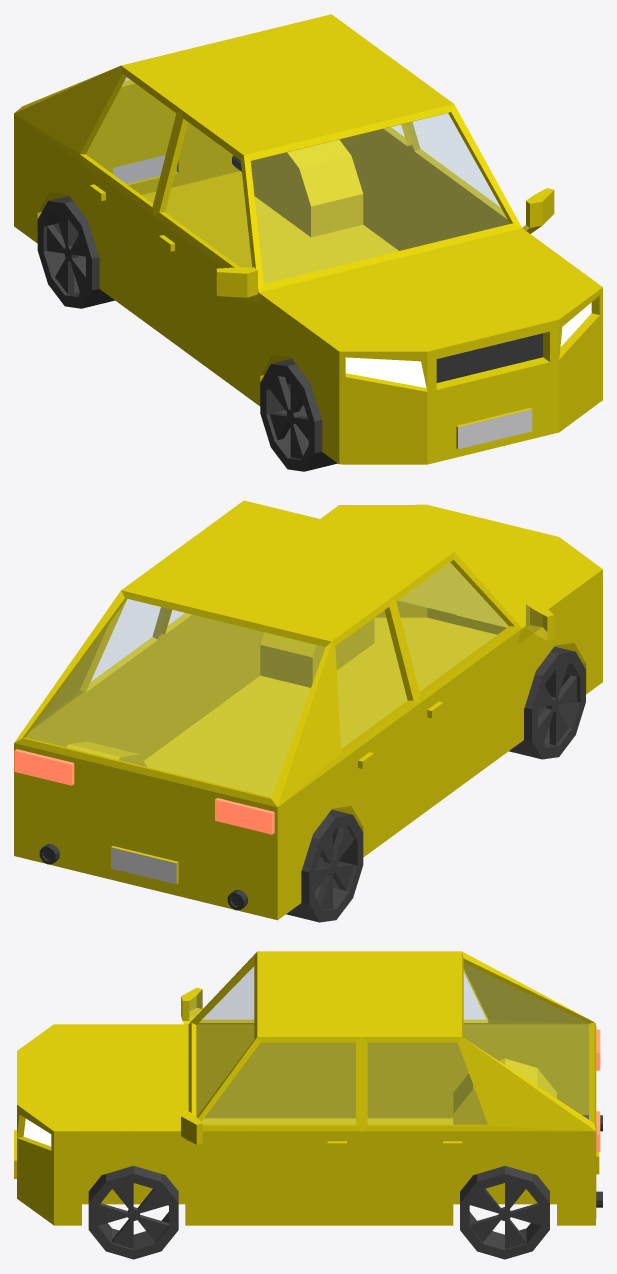
File: hatchback.glb
The picture shows the model from 3 angles, top to bottom: view 1: azimuth 30°, elevation 25°; view 2: azimuth 150°, elevation 25°; view 3: azimuth 270°, elevation 25°; orthographic projection. The views are drawn at different scales.
Parts seen in each view (by area): view 1: Hatchback, Hatchback wheel front right, Hatchback wheel rear right; view 2: Hatchback, Hatchback wheel rear right, Hatchback wheel front right; view 3: Hatchback, Hatchback wheel front left, Hatchback wheel rear left.
Boxes of the visible parts, box(x1,y1,x2,y2) form: Hatchback: box(14, 14, 602, 464); Hatchback wheel front right: box(260, 359, 337, 471); Hatchback wheel rear right: box(37, 196, 114, 308); Hatchback: box(14, 500, 602, 920); Hatchback wheel rear right: box(286, 809, 363, 922); Hatchback wheel front right: box(509, 646, 585, 759); Hatchback: box(14, 951, 602, 1225); Hatchback wheel front left: box(88, 1166, 178, 1259); Hatchback wheel rear left: box(460, 1166, 549, 1259).
Size of the model in its own units: 2.81 by 2.01 by 5.11.
